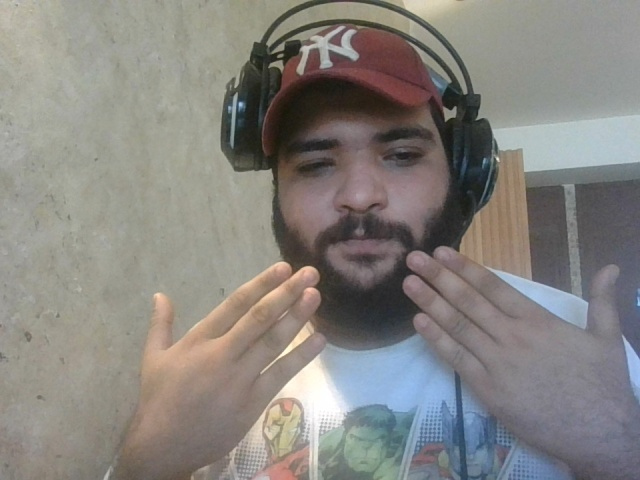thanks: (126, 237, 640, 453)
